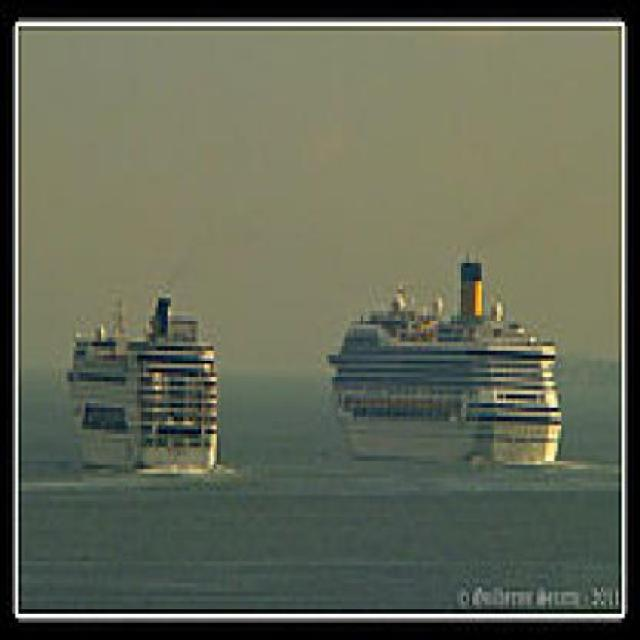cruise: (317, 234, 577, 480), (53, 273, 233, 487)
